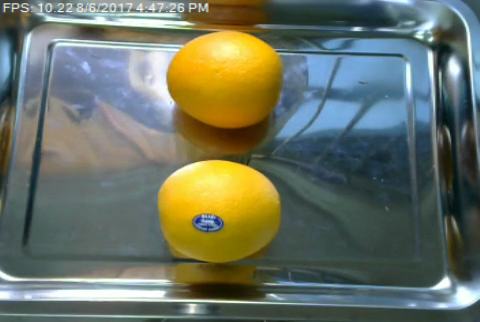Orange: (157, 159, 282, 263), (167, 30, 284, 128)
